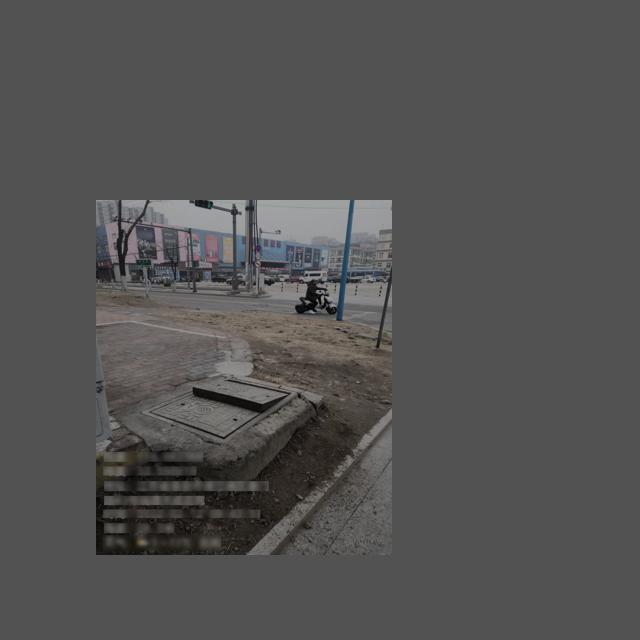uncovered: (176, 365, 310, 416)
